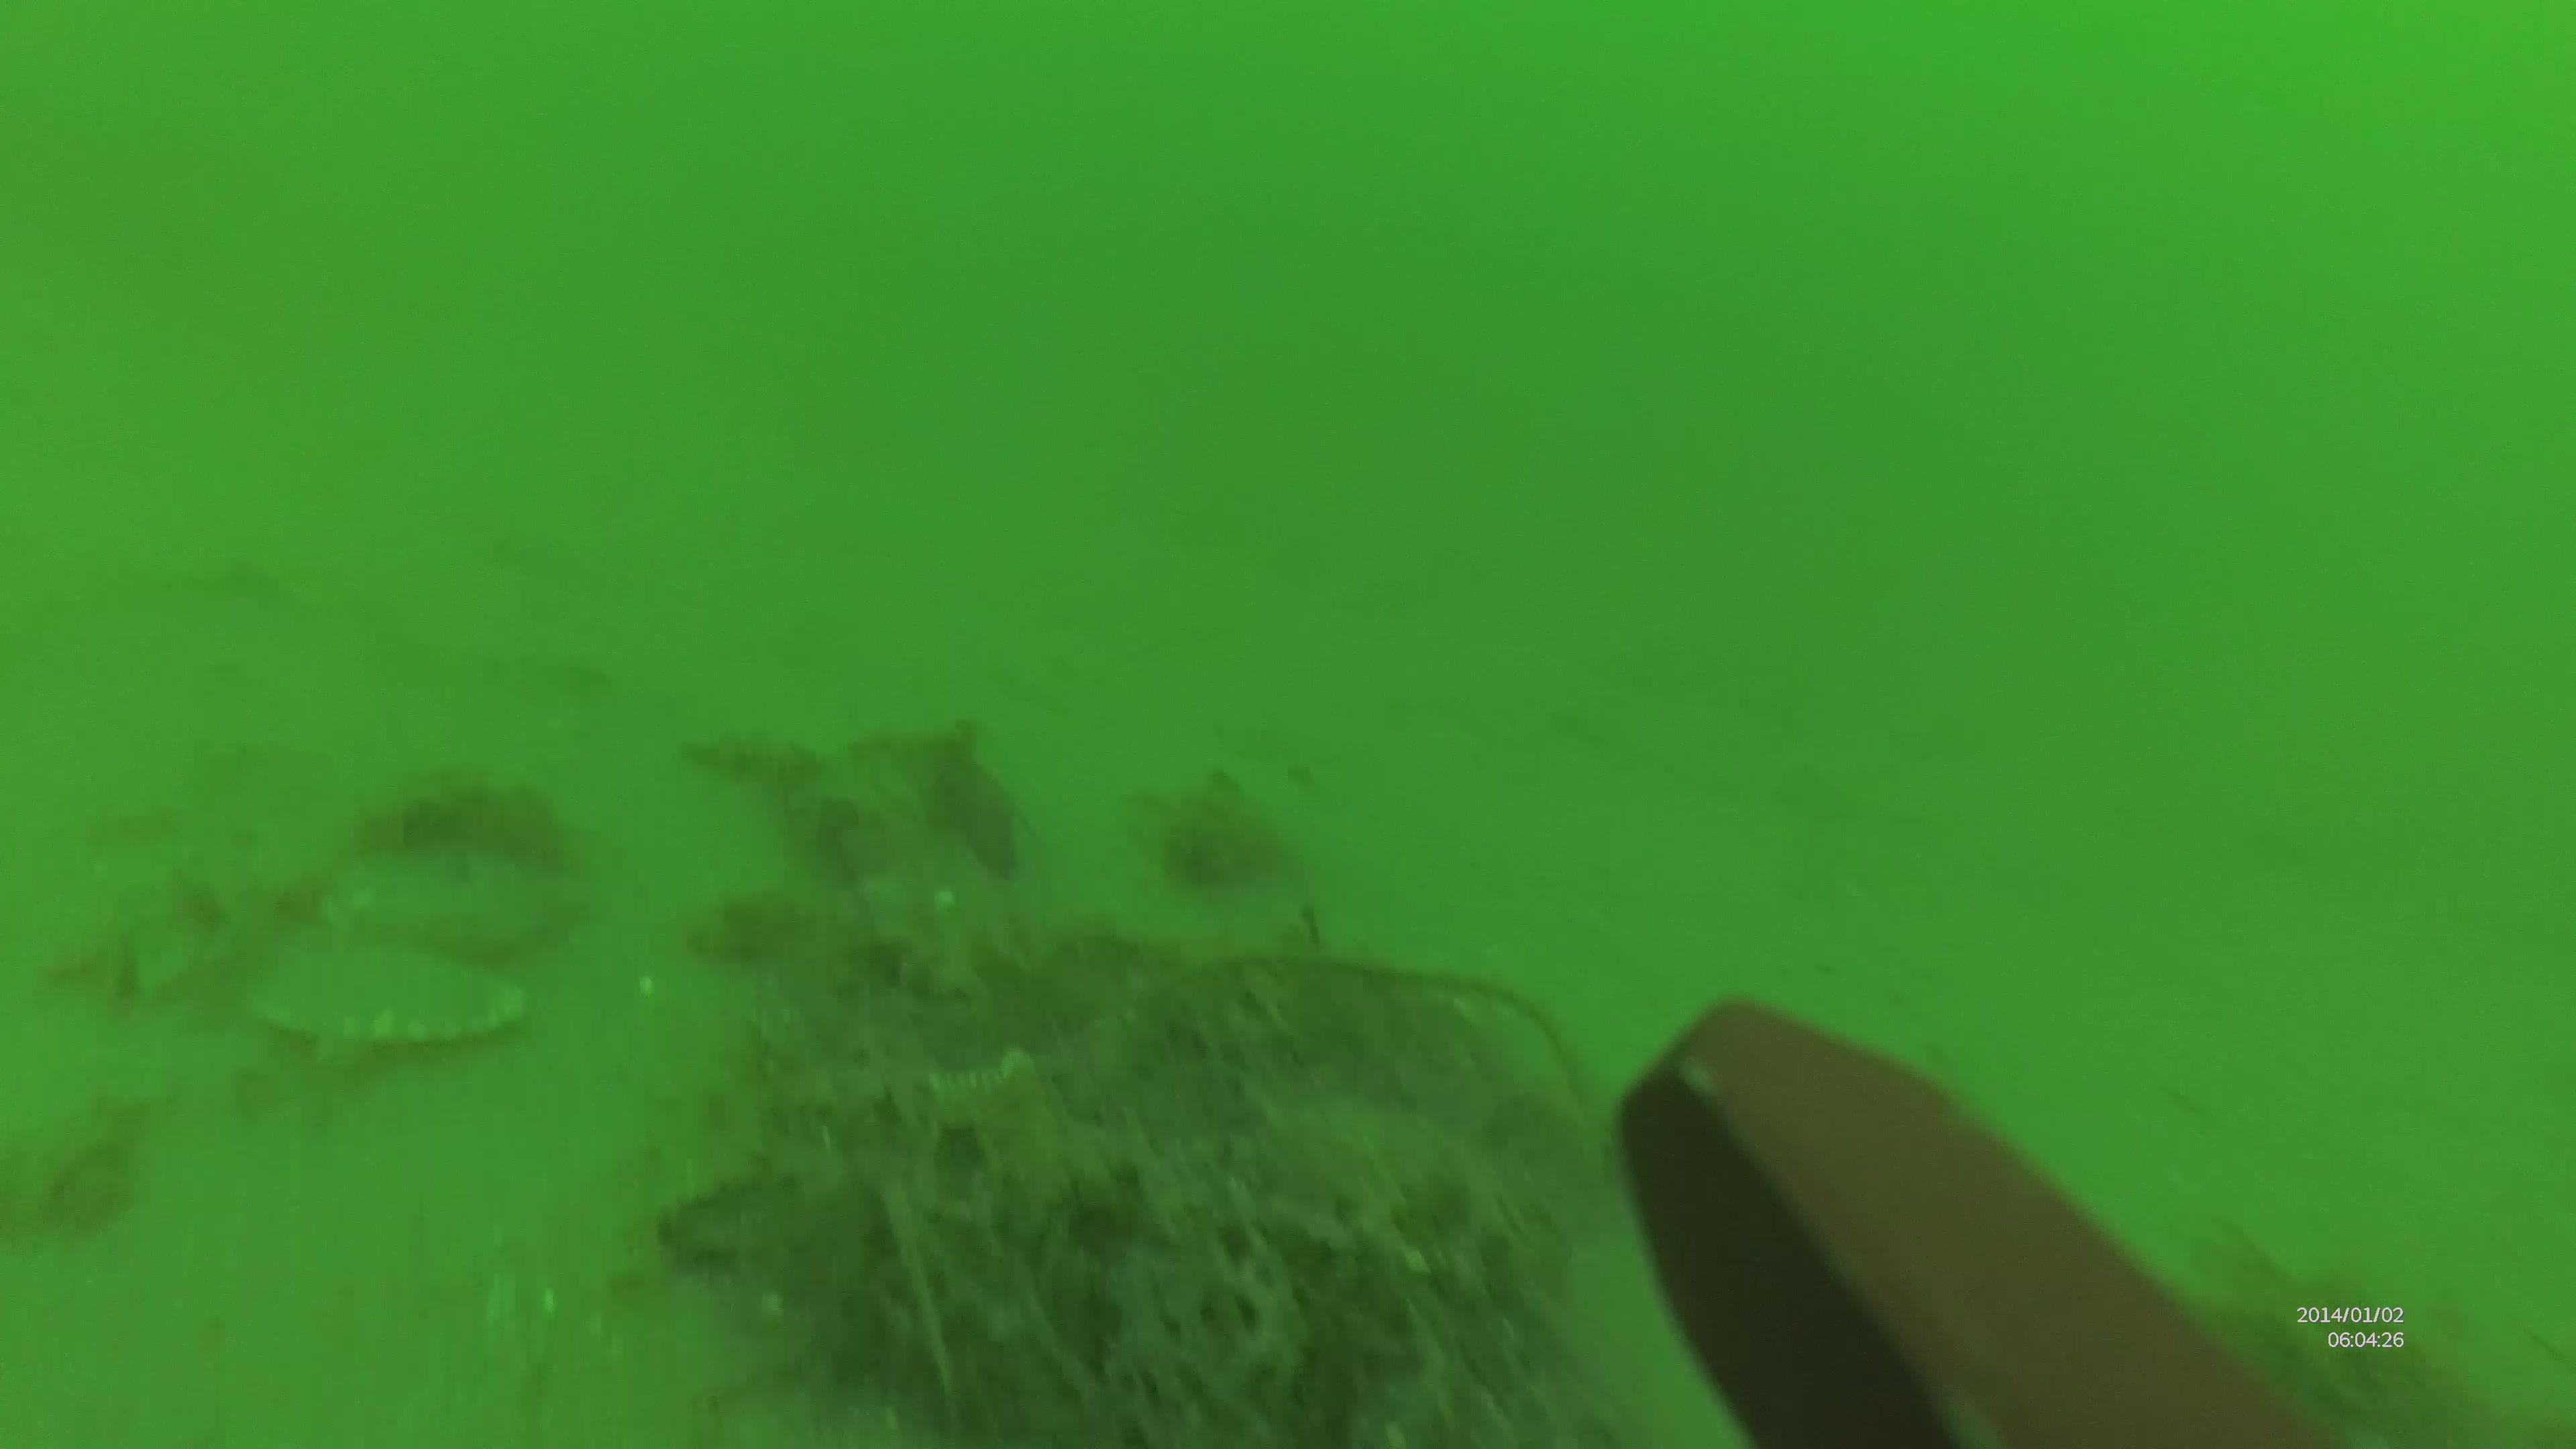scallop: (299, 837, 579, 948), (253, 950, 522, 1056)
